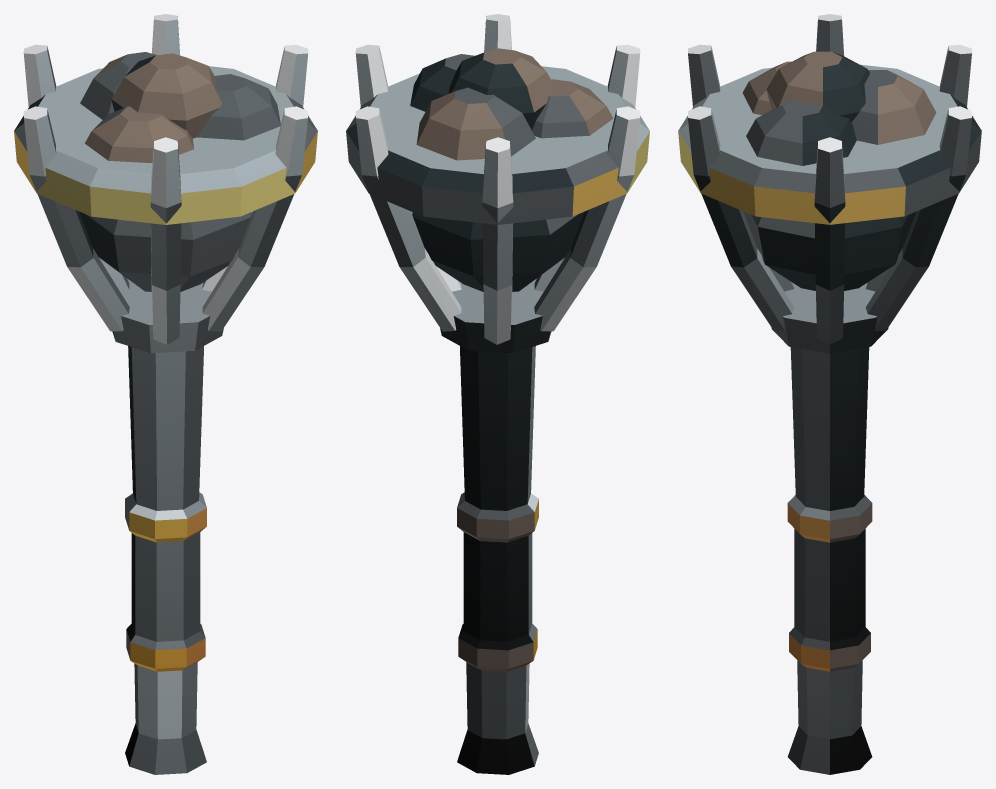
The model's file is source.glb.
3 renders of one model, left to right at view 1: azimuth 30°, elevation 25°; view 2: azimuth 150°, elevation 25°; view 3: azimuth 270°, elevation 25°, orthographic.
Visible parts, largest first — view 1: model; view 2: model; view 3: model.
Part boxes in pixels (<box>): model: <box>14,14,317,774</box>; model: <box>346,14,649,774</box>; model: <box>678,14,981,774</box>.
Size of the model in its own units: 0.4795 by 1.13 by 0.444.
Materials: 1 (1 with a texture image).
